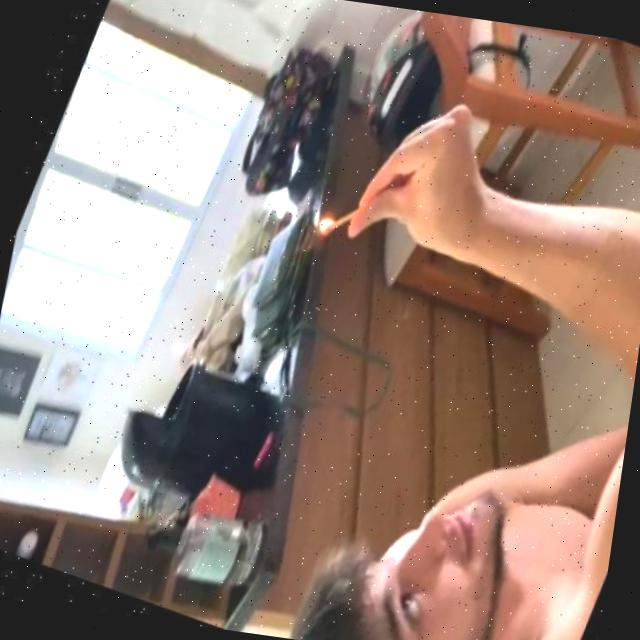fire: (306, 207, 334, 241)
